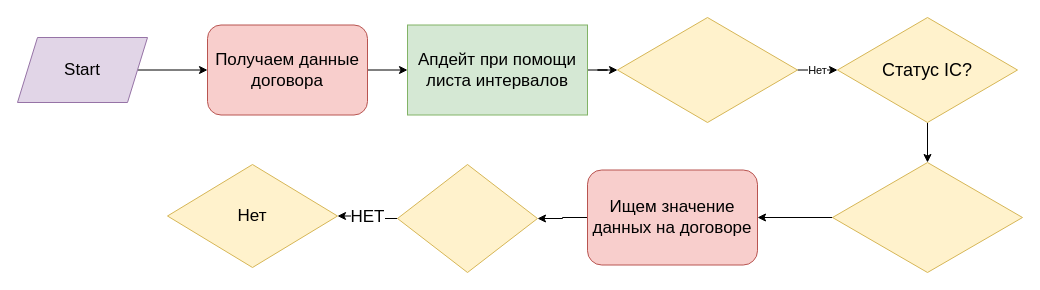
Some shapes in this 1040 by 290 pixel diagram are drawn without their labels. Here are the shapes that lost their labels. From the top down, the centre of each, then its label:
At (x=707, y=69): "обновили?".
At (x=467, y=218): "В Агенстве?".
At (x=927, y=217): "Задолженность >0 ?".
